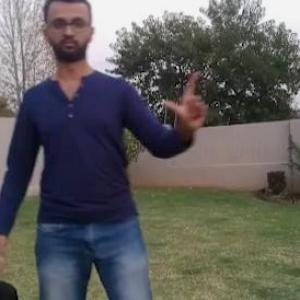land_hand: (158, 68, 221, 135)
